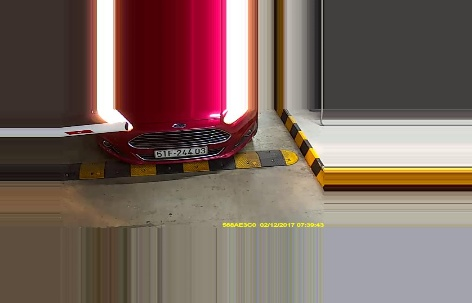plate: (151, 143, 211, 159)
